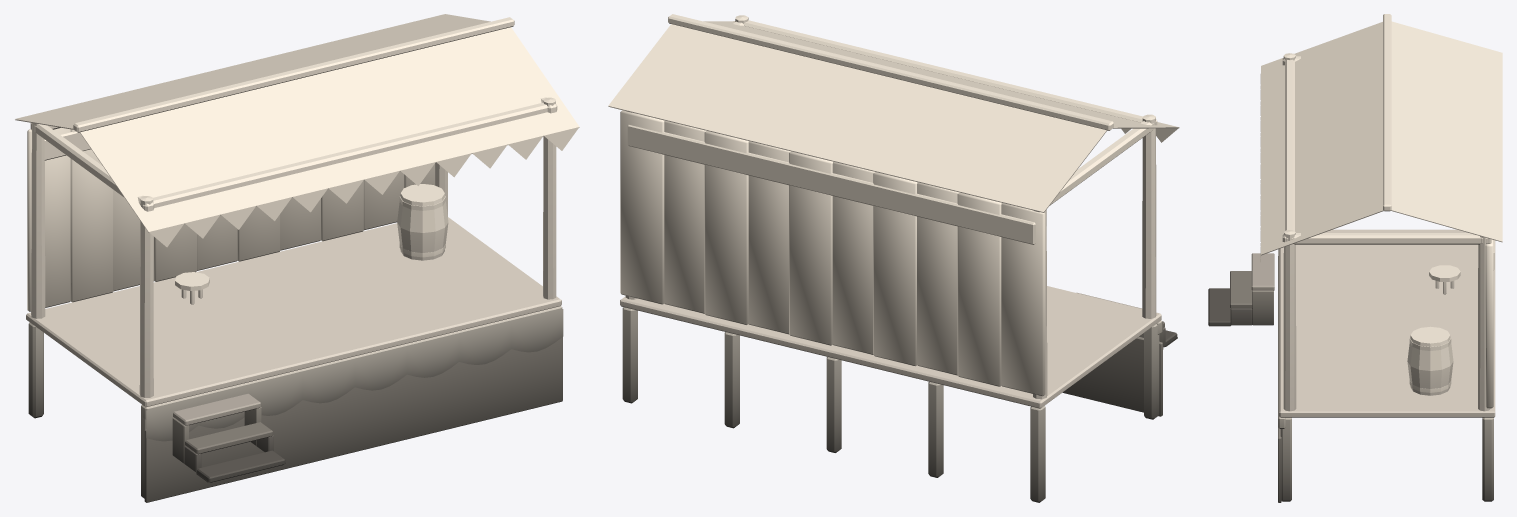
Rendered from SM_VK_Prop_Stage.fbx.
The picture shows the model from 3 angles, left to right: view 1: azimuth 30°, elevation 25°; view 2: azimuth 150°, elevation 25°; view 3: azimuth 270°, elevation 25°; orthographic projection. The views are drawn at different scales.
Visible parts, largest first — view 1: SM_VK_Prop_Stage.001; view 2: SM_VK_Prop_Stage.001; view 3: SM_VK_Prop_Stage.001.
Boxes of the visible parts, box(x1,y1,x2,y2) form: SM_VK_Prop_Stage.001: box(15, 14, 579, 502); SM_VK_Prop_Stage.001: box(608, 14, 1179, 502); SM_VK_Prop_Stage.001: box(1208, 14, 1502, 502).
Bounding box in the file's own units: 6.3 × 4.63 × 4.08.
